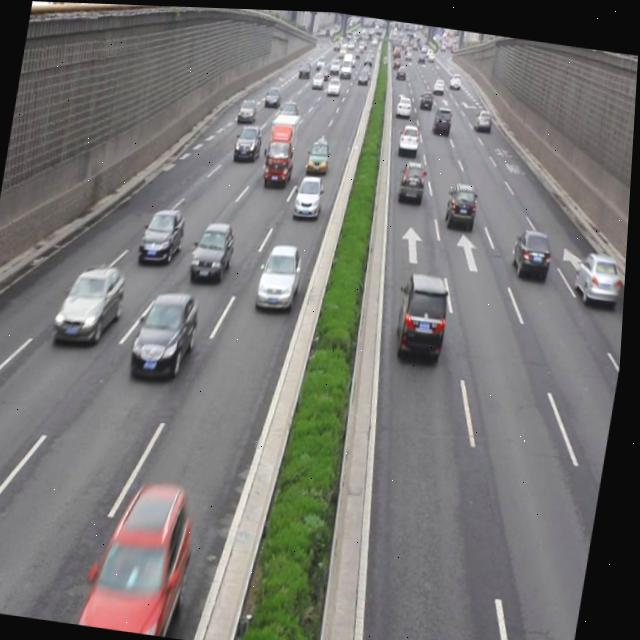bus: (264, 109, 302, 183)
car: (90, 474, 205, 637), (131, 285, 204, 380), (55, 258, 131, 347), (396, 266, 455, 356), (257, 237, 306, 311), (573, 242, 628, 300), (191, 216, 240, 281), (139, 203, 189, 266), (512, 221, 556, 278), (445, 178, 481, 227), (294, 171, 326, 218), (399, 155, 429, 199), (234, 120, 265, 161), (306, 135, 333, 170), (398, 118, 422, 152), (238, 95, 259, 122)
